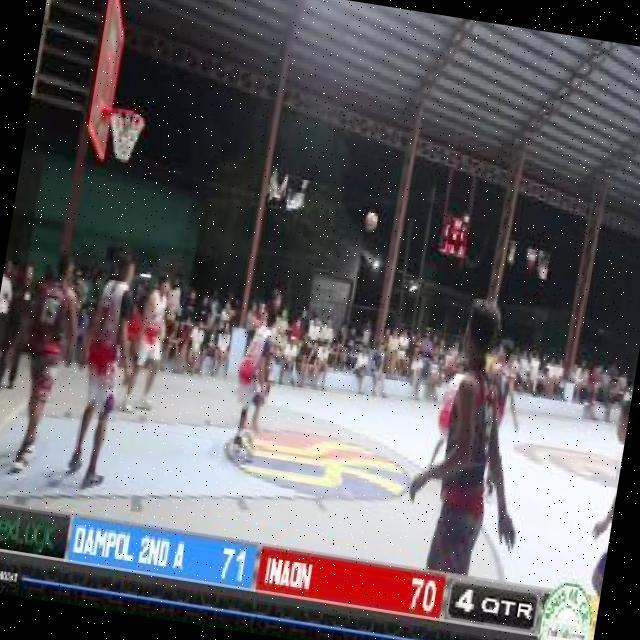ball: (361, 208, 379, 234)
hoop: (109, 107, 153, 131)
